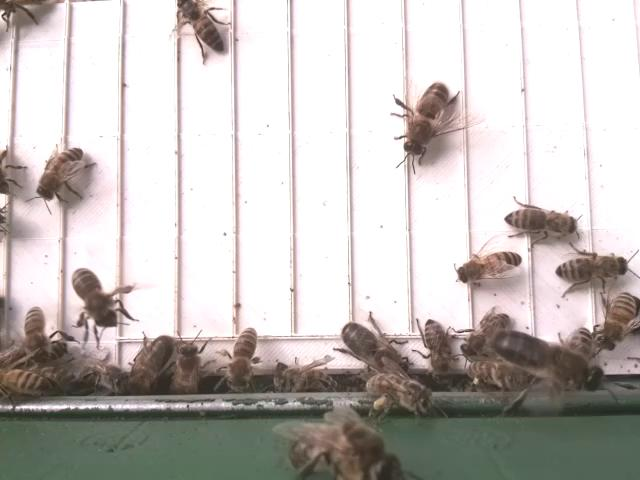Drone: (399, 78, 456, 159), (338, 319, 411, 375), (123, 328, 178, 395)
Worker: (70, 265, 119, 331), (172, 0, 229, 56), (35, 143, 86, 203), (498, 202, 580, 238), (598, 288, 639, 354), (450, 250, 527, 285), (552, 252, 632, 285), (418, 314, 454, 382), (226, 324, 258, 394), (18, 302, 47, 363)
